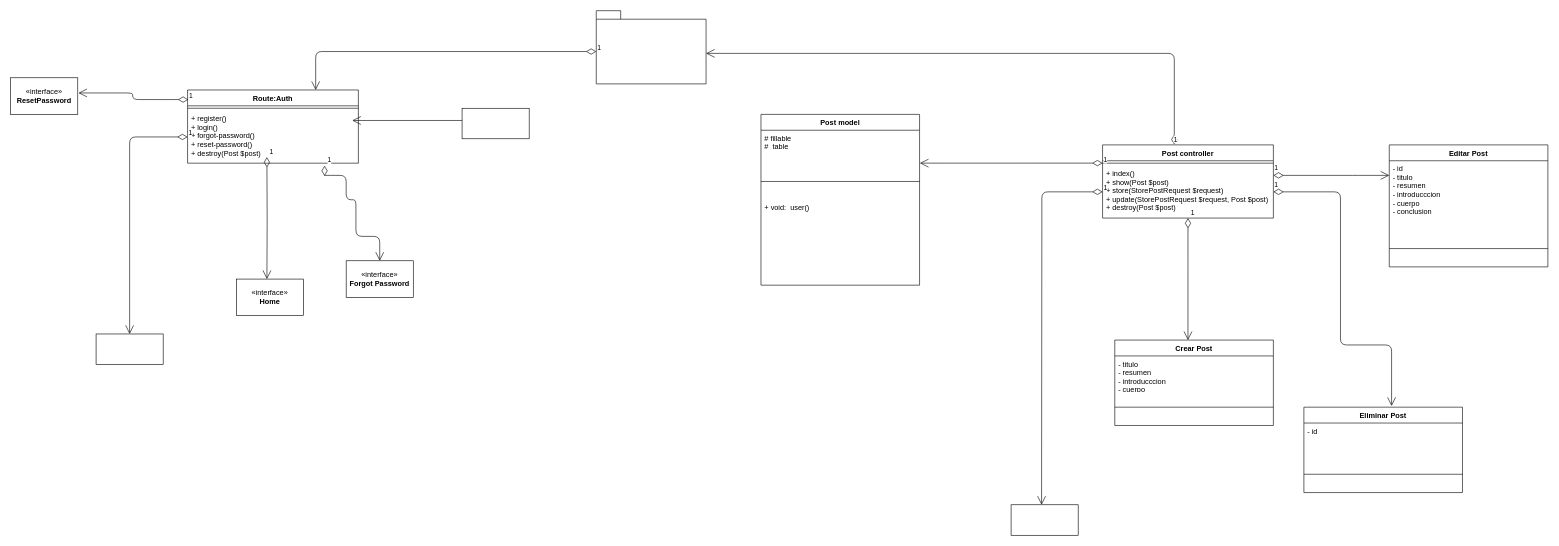
This 1559x546 diagram has some shape labels left out. The centre of each missing label's shape, as x and y in pixels:
APP/HTPP: point (651, 47)
«interface» Login: point (495, 123)
«interface» register: point (129, 348)
«interface» Ver Posts: point (1044, 519)
